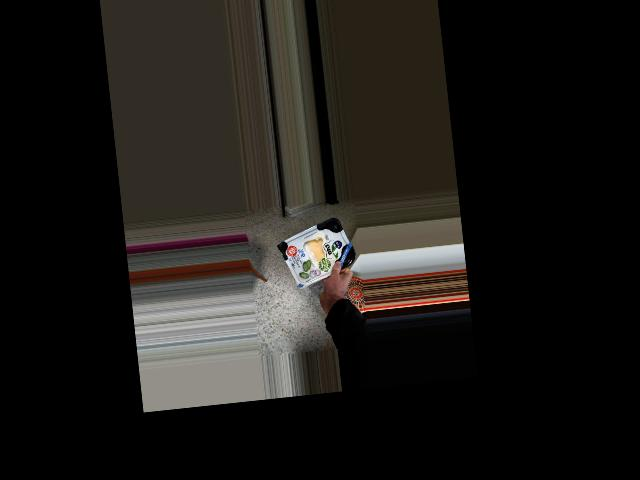cheese: (283, 225, 350, 282)
